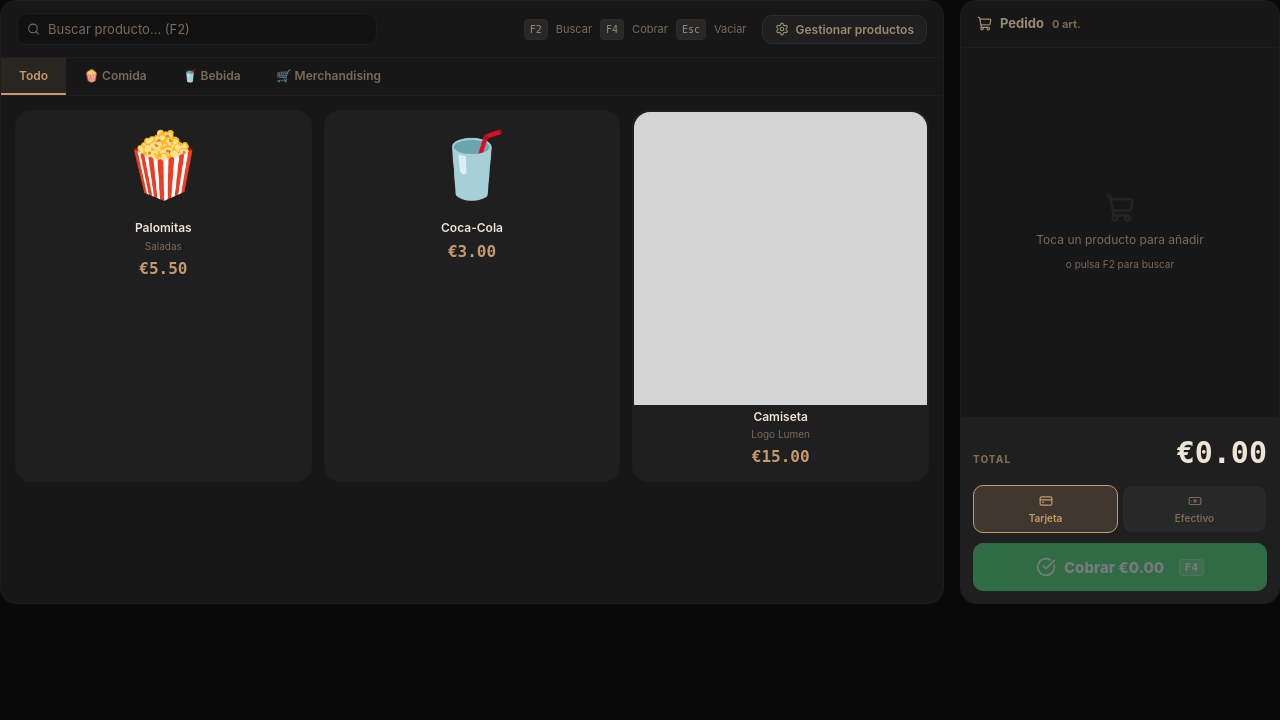
Scenario: ConcessionPage — comprehensive › closes the payment modal with the header button and resets after receipt
Expected: the text "Palomitas" is shown, [135,220,192,235]
Click the button "🍿 Palomitas Saladas €5.50".
click(163, 164)  # box [15,110,312,482]
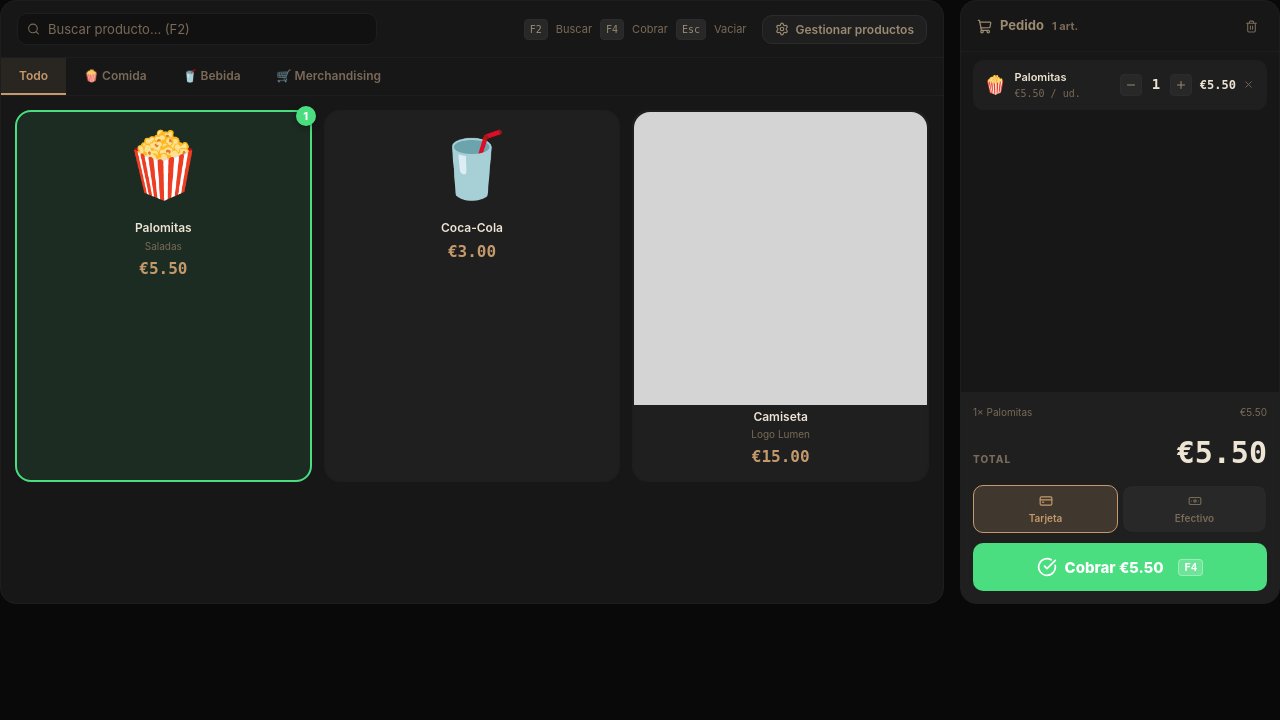
Click the button "Cobrar €5.50 F4".
click(1120, 567)  # box [973,543,1267,591]
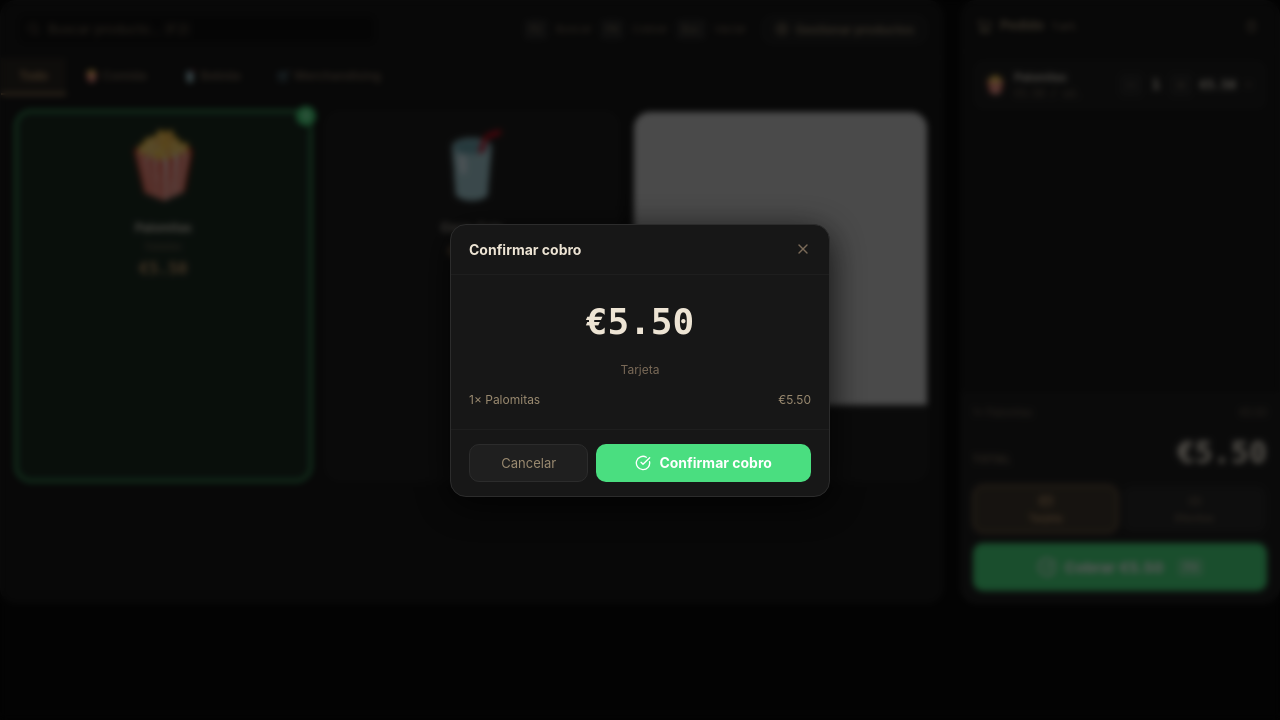
Result: the dialog is shown at [450,224,830,496]
Click the button named "cerrar".
click(803, 249)  # box [795,241,811,257]
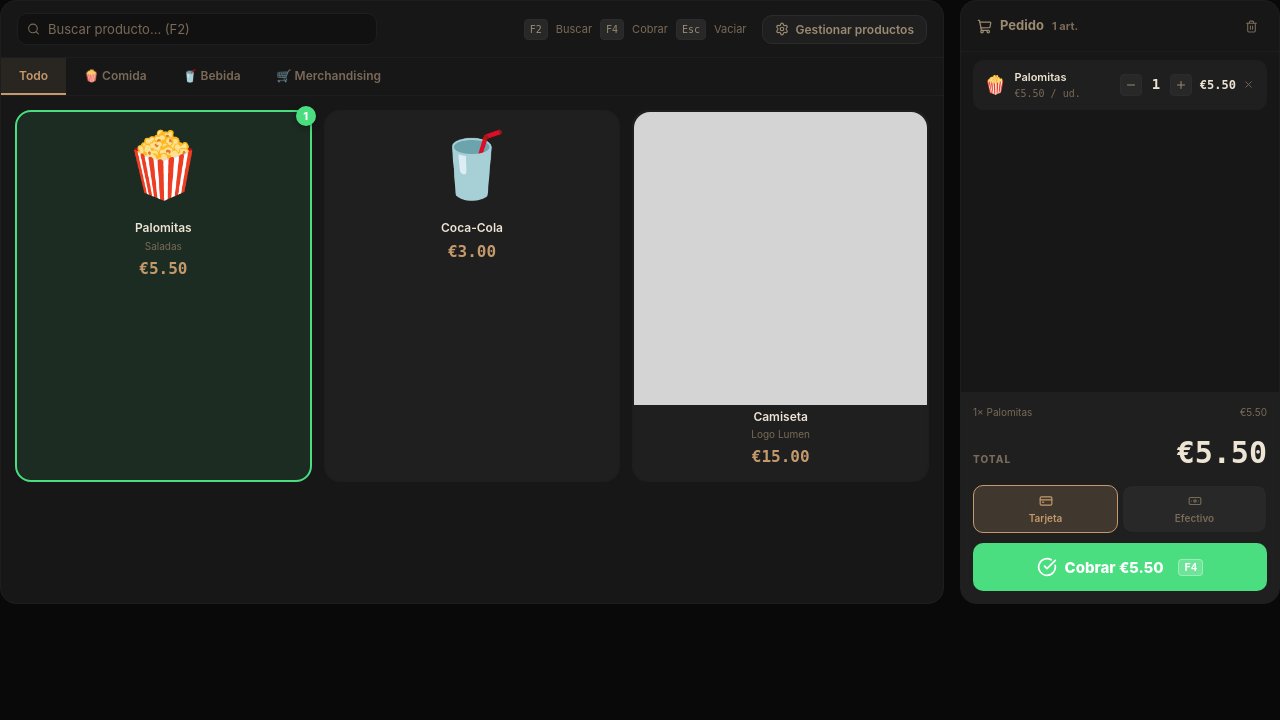
Result: the dialog is gone
Click the button "Cobrar €5.50 F4".
click(1120, 567)  # box [973,543,1267,591]
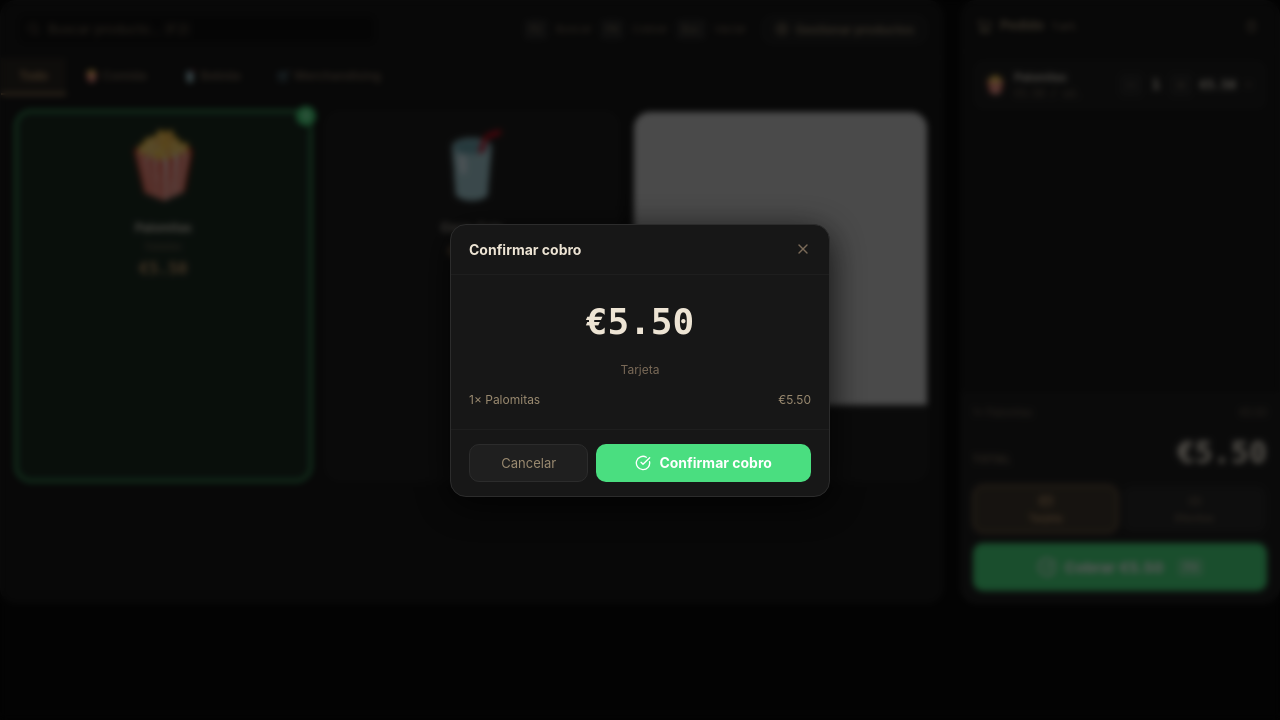
Result: the dialog is shown at [450,224,830,496]
Click the button "Confirmar cobro".
click(704, 462)  # box [596,444,811,482]
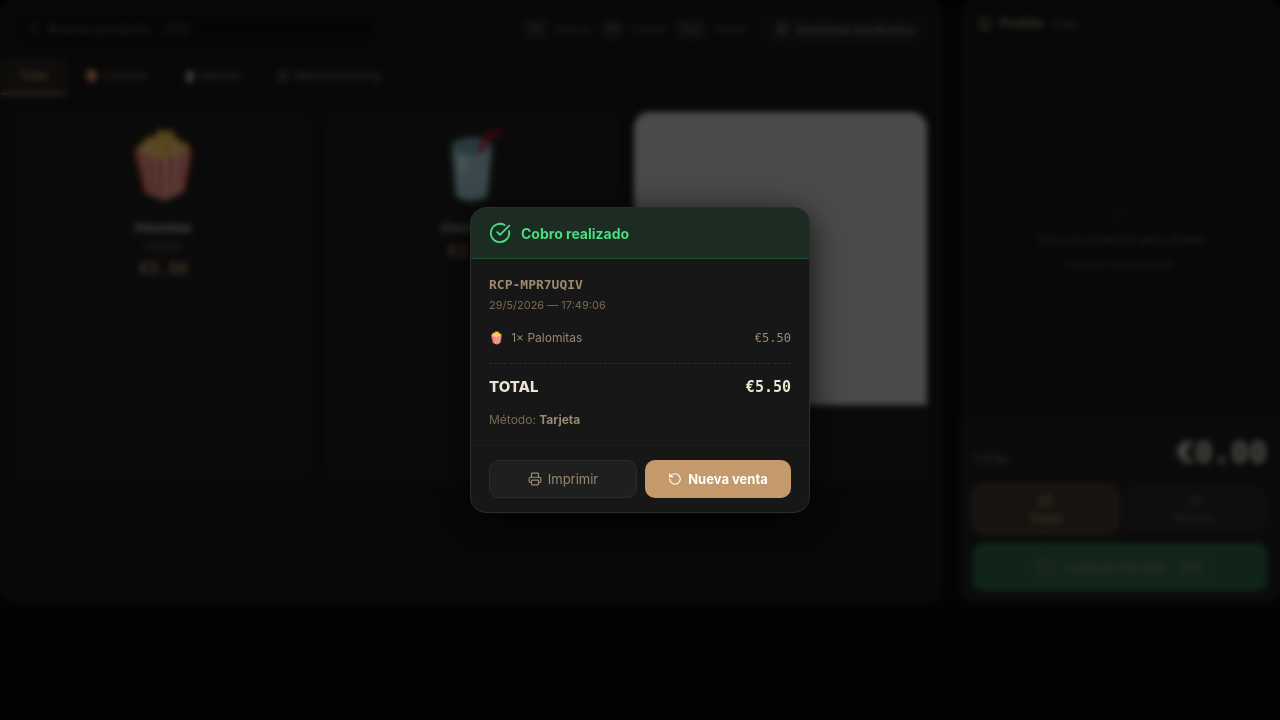
Result: the button "Nueva venta" is shown
Click the button "Nueva venta".
click(718, 479)  # box [645,460,791,498]
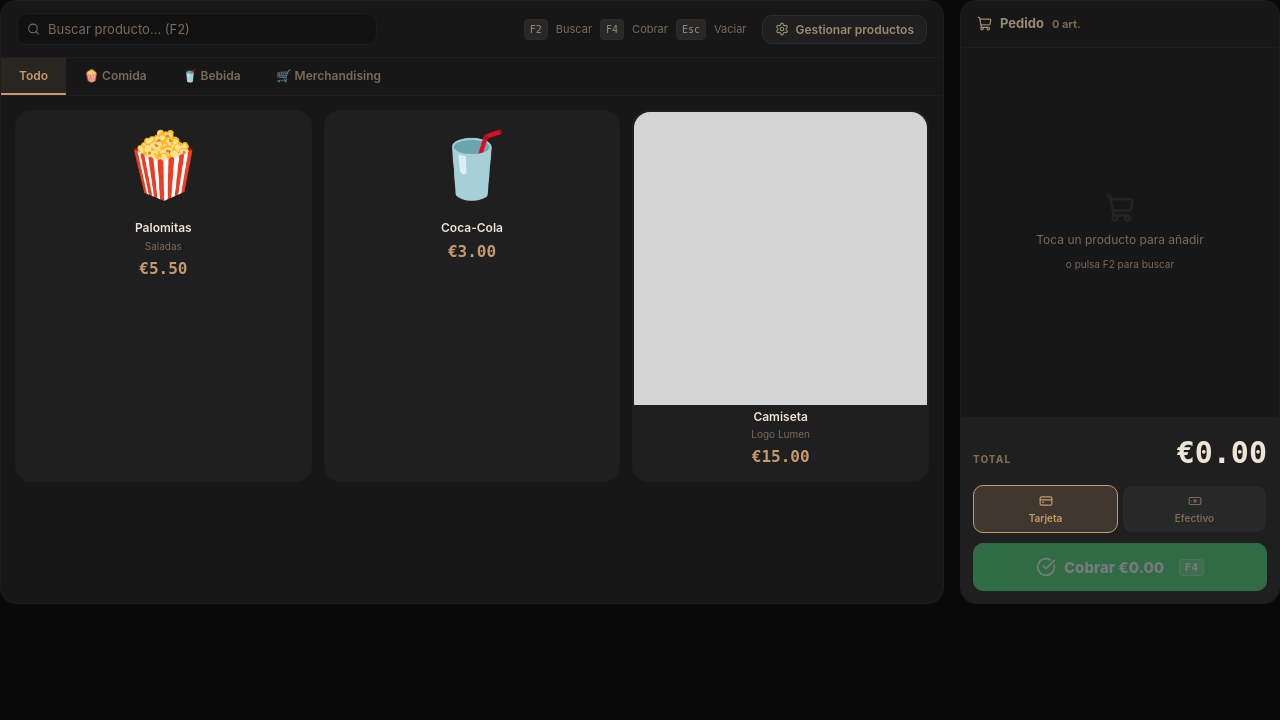
Result: the button "Nueva venta" is gone
